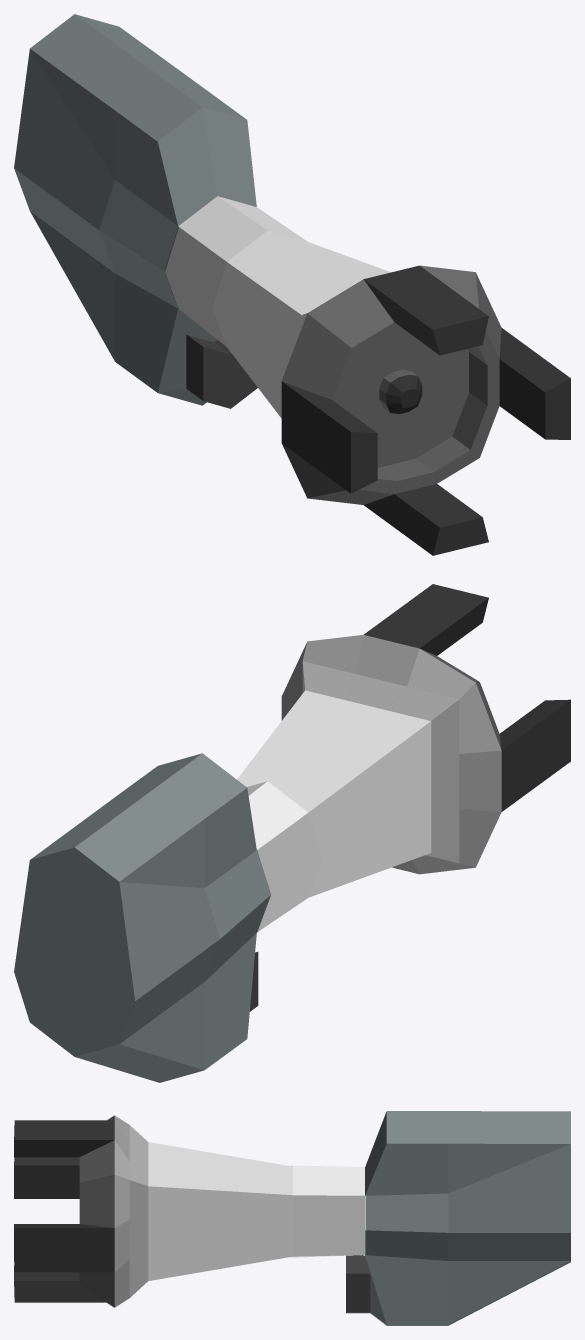
File: Laser_Model.fbx
The picture shows the model from 3 angles, top to bottom: view 1: azimuth 30°, elevation 25°; view 2: azimuth 150°, elevation 25°; view 3: azimuth 270°, elevation 25°; orthographic projection. The views are drawn at different scales.
Parts seen in each view (by area): view 1: Laser, LaserEnd; view 2: Laser, LaserEnd; view 3: Laser, LaserEnd.
Part boxes in pixels (left/top/right/bottom): Laser: left=14, top=14, right=390, bottom=418; LaserEnd: left=281, top=265, right=570, bottom=555; Laser: left=14, top=690, right=431, bottom=1082; LaserEnd: left=281, top=584, right=570, bottom=874; Laser: left=148, top=1111, right=570, bottom=1325; LaserEnd: left=14, top=1115, right=148, bottom=1307.
Size of the model in its own units: 175 by 226 by 532.
2 materials, 2 textured.
